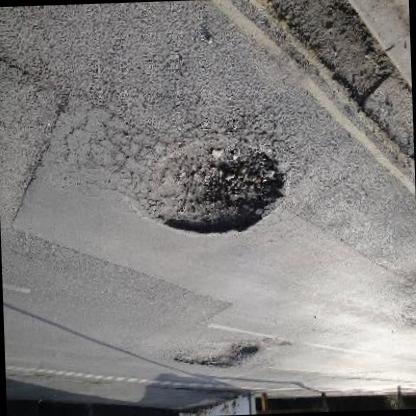pothole: (261, 0, 395, 114), (139, 140, 288, 241), (168, 336, 262, 374)
